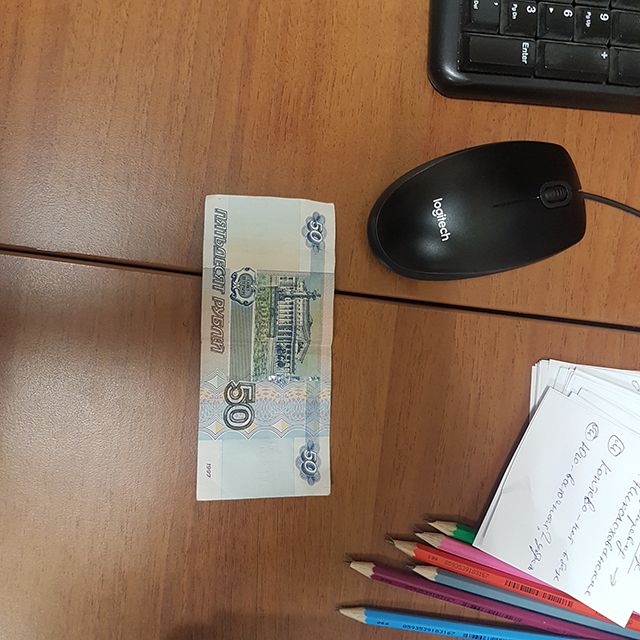banknotes: (196, 193, 335, 502)
